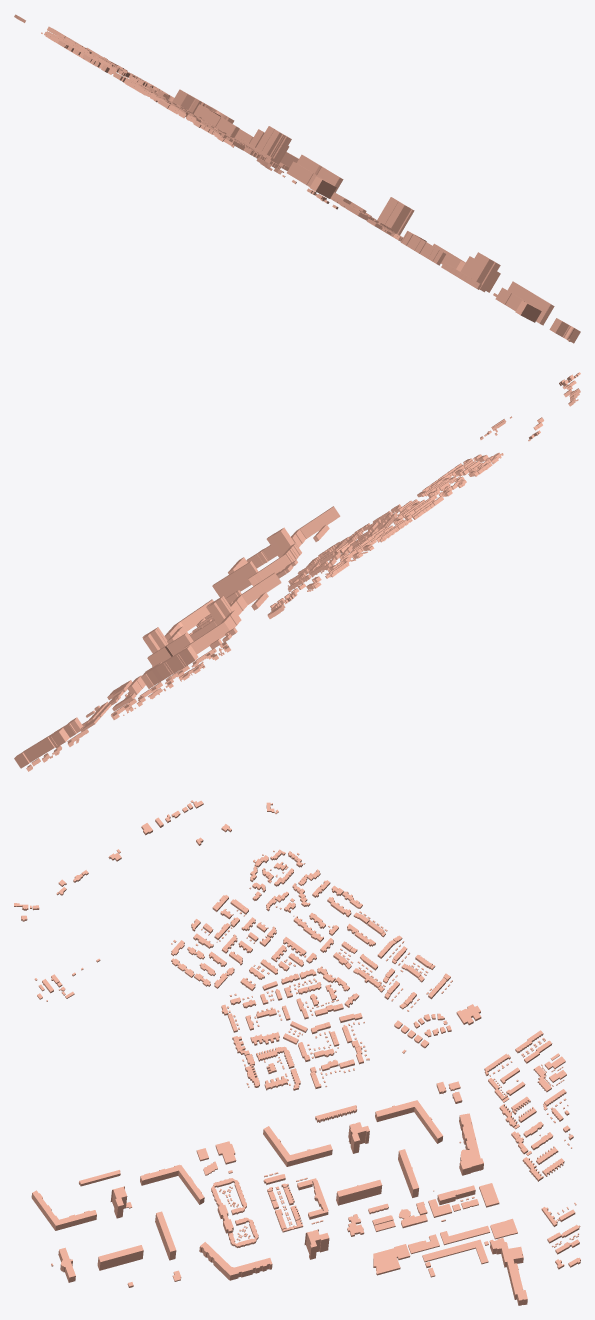
3 renders of one model, top to bottom at view 1: azimuth 30°, elevation 25°; view 2: azimuth 150°, elevation 25°; view 3: azimuth 270°, elevation 25°, orthographic. The views are drawn at different scales.
Size of the model in its own units: 972 by 791 by 1251.
